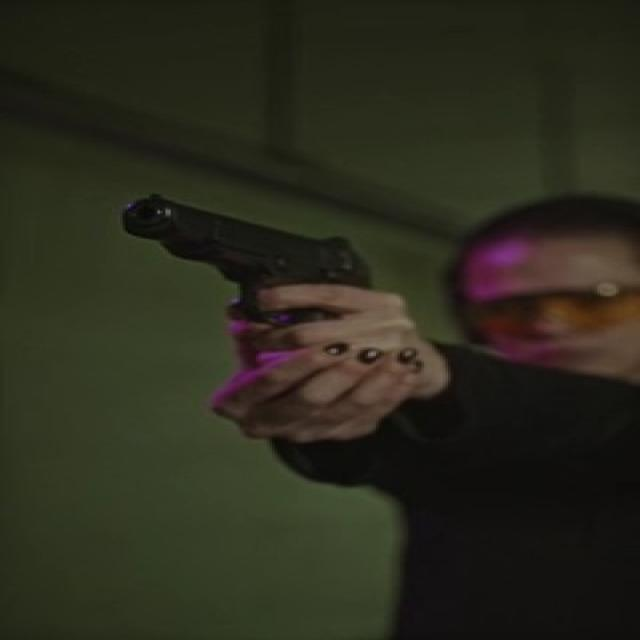Gun_Holder: (87, 174, 448, 448)
Person: (256, 185, 640, 640)
